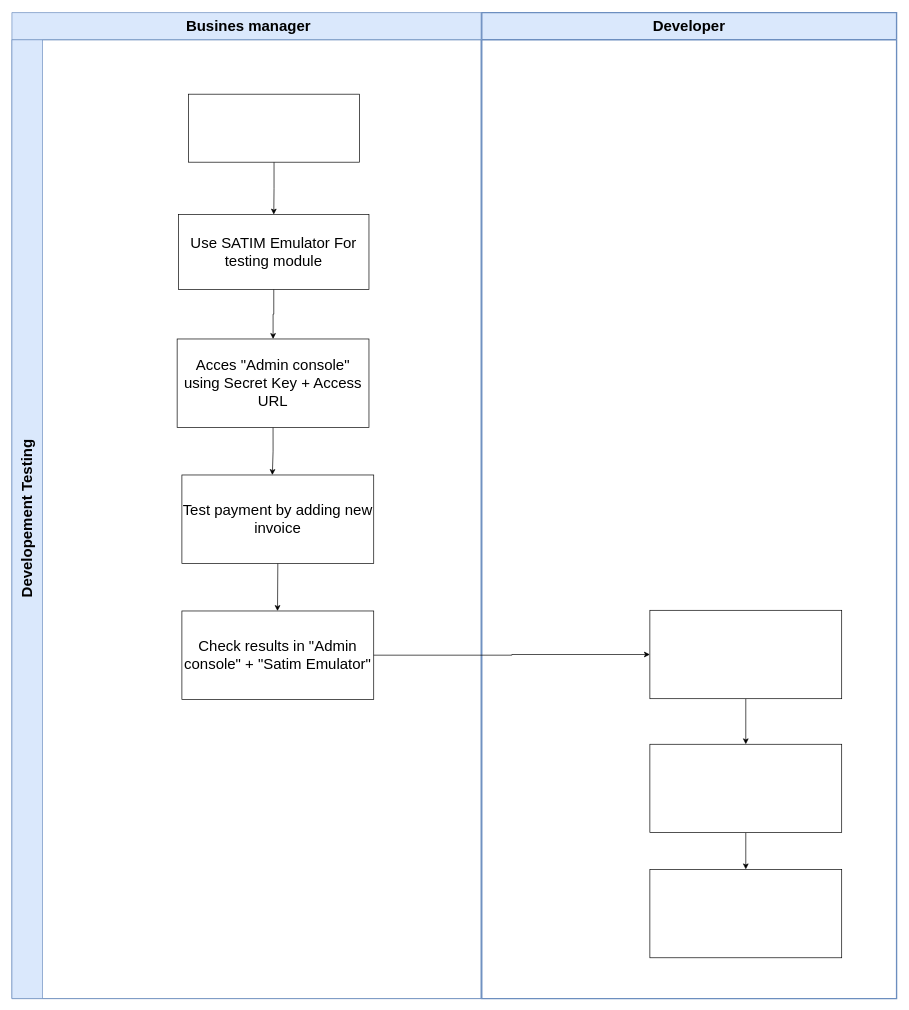
Image size: 909x1010. Some labels were removed from this diagram. The centre of each missing label's shape, as x and y in pixels:
Access My Applications/TTK EPay: pixel 745 654
Integrate Client module in the base code: pixel 745 788
Purchase module on deploily: pixel 273 128
Test Check results in "Admin console" + "Satim Emulator": pixel 745 913
